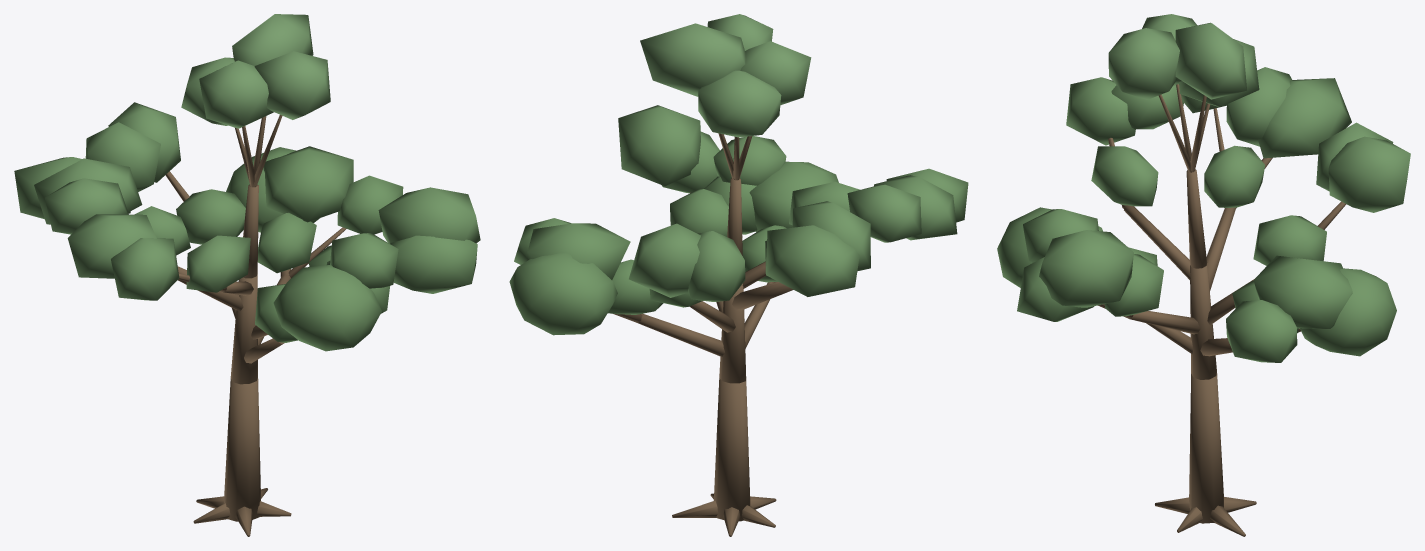
Rendered from oak_b.glb.
The picture shows the model from 3 angles, left to right: view 1: azimuth 30°, elevation 25°; view 2: azimuth 150°, elevation 25°; view 3: azimuth 270°, elevation 25°; orthographic projection. The views are drawn at different scales.
Parts seen in each view (by area): view 1: oak_b; view 2: oak_b; view 3: oak_b.
Boxes of the visible parts, <box> form: oak_b: <box>14,14,480,536</box>; oak_b: <box>509,14,968,536</box>; oak_b: <box>997,14,1410,536</box>.
Bounding box in the file's own units: 10.4 × 12.8 × 9.4.
